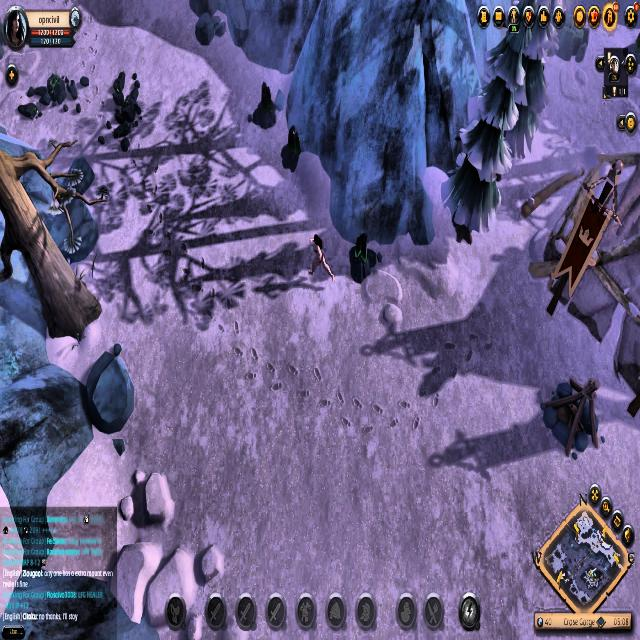tin_ore: (348, 223, 382, 287), (252, 75, 281, 138), (280, 120, 304, 176)
